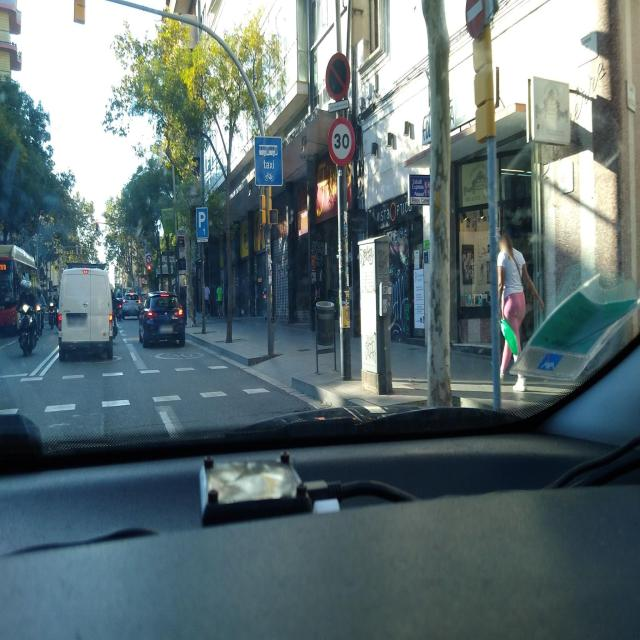bike: (17, 302, 43, 356), (35, 303, 44, 339), (48, 300, 56, 328)
car: (57, 261, 115, 362), (138, 290, 186, 348), (120, 291, 140, 321)
